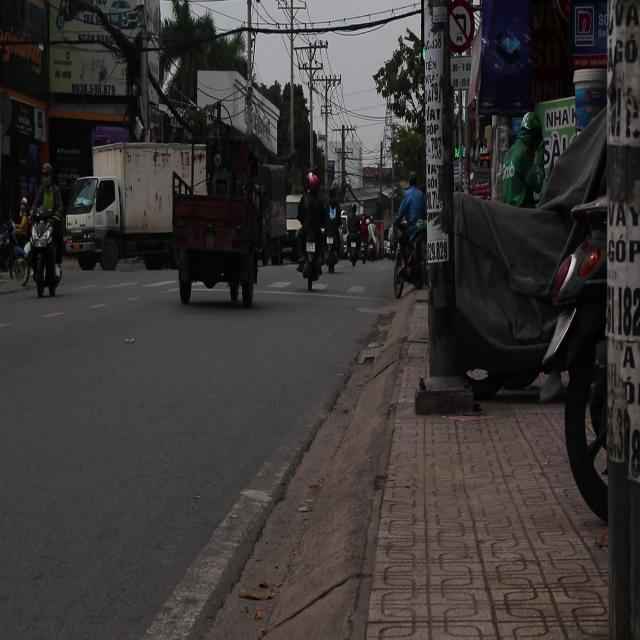motorbike: (26, 193, 72, 301), (288, 200, 323, 308), (0, 210, 33, 290), (318, 218, 344, 278), (345, 215, 367, 270)
truck: (62, 138, 204, 274), (225, 153, 295, 274), (274, 180, 311, 258)
